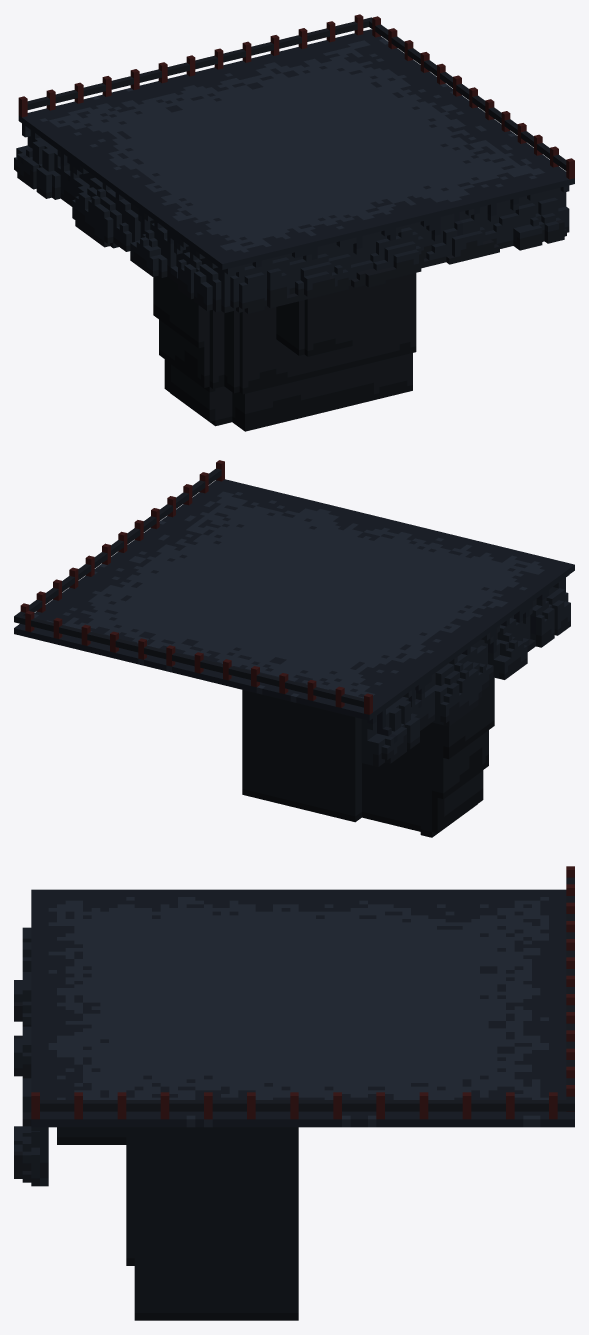
3 views of the same model, one above another, from view 1: azimuth 30°, elevation 25°; view 2: azimuth 150°, elevation 25°; view 3: azimuth 270°, elevation 25° (orthographic). The views are drawn at different scales.
Parts seen in each view (by area): view 1: Untitled; view 2: Untitled; view 3: Untitled.
Part boxes in pixels (x1,y1,x2,y2): Untitled: [14, 14, 574, 431]; Untitled: [14, 460, 574, 837]; Untitled: [14, 866, 574, 1320].
Bounding box in the file's own units: 6.5 × 3.9 × 6.5.
1 material, 1 textured.
